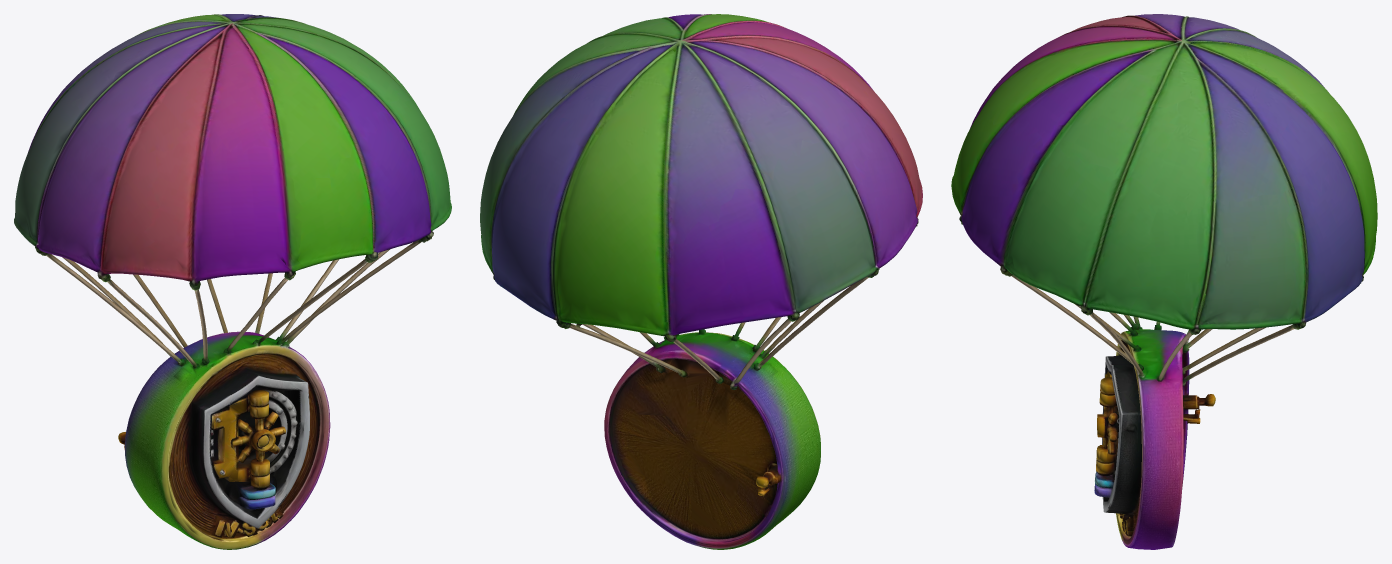
Rendered from airdrop.web.glb.
3 views of the same model, side by side, from view 1: azimuth 30°, elevation 25°; view 2: azimuth 150°, elevation 25°; view 3: azimuth 270°, elevation 25° (orthographic).
Parts seen in each view (by area): view 1: tripo_node_f828aabd-4130-4217-830f-f36139b44831; view 2: tripo_node_f828aabd-4130-4217-830f-f36139b44831; view 3: tripo_node_f828aabd-4130-4217-830f-f36139b44831.
Part boxes in pixels (x1,y1,x2,y2): tripo_node_f828aabd-4130-4217-830f-f36139b44831: [14, 14, 451, 549]; tripo_node_f828aabd-4130-4217-830f-f36139b44831: [480, 14, 922, 549]; tripo_node_f828aabd-4130-4217-830f-f36139b44831: [951, 14, 1377, 549].
Size of the model in its own units: 0.7788 by 0.9799 by 0.7491.
Materials: 1 (1 with a texture image).
